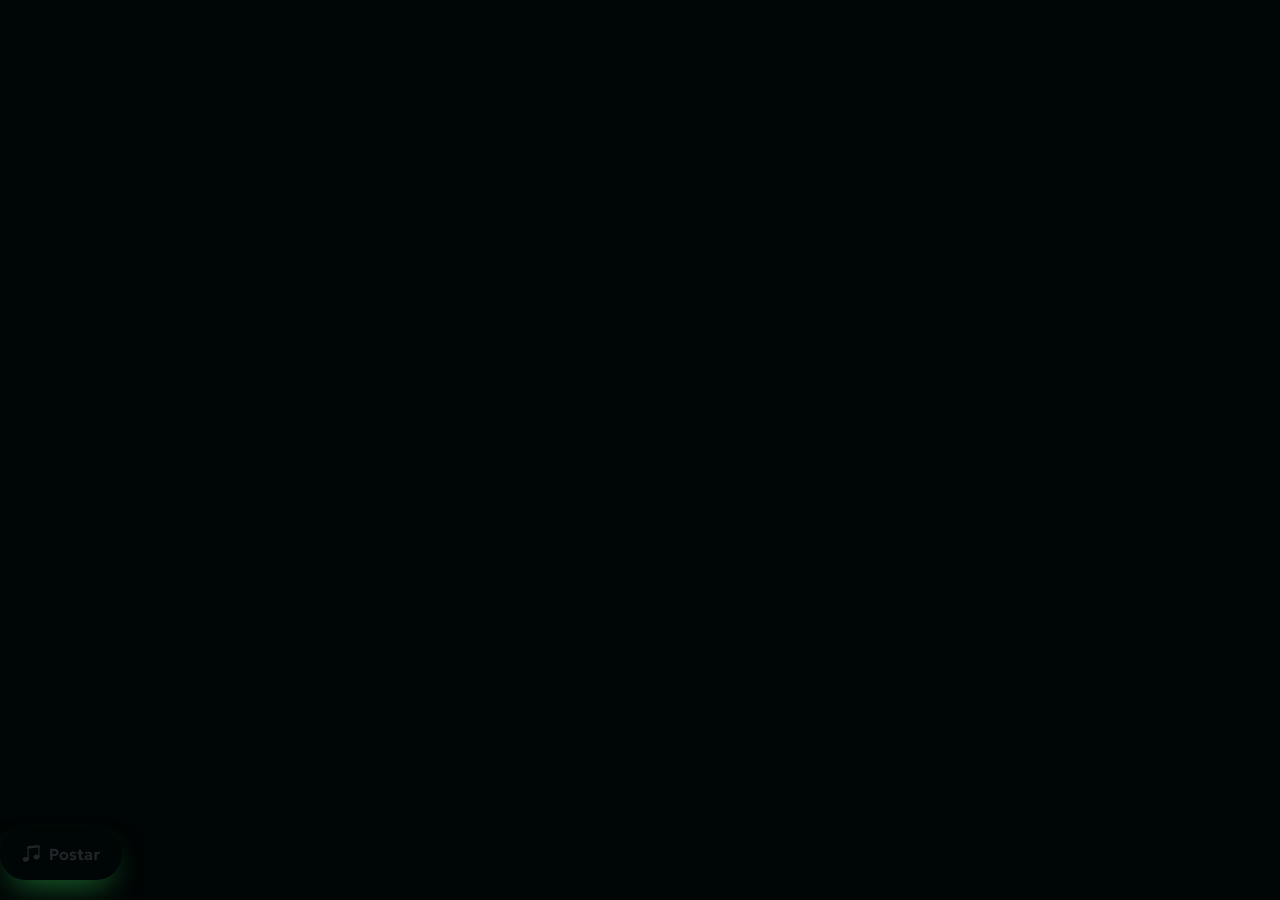
Test: CreatePost › abre o diálogo "Novo post" com o texto focado e "Publicar" desligado enquanto vazio
Click the button with aria-label "Criar post": [61, 854] box [0, 828, 122, 880]
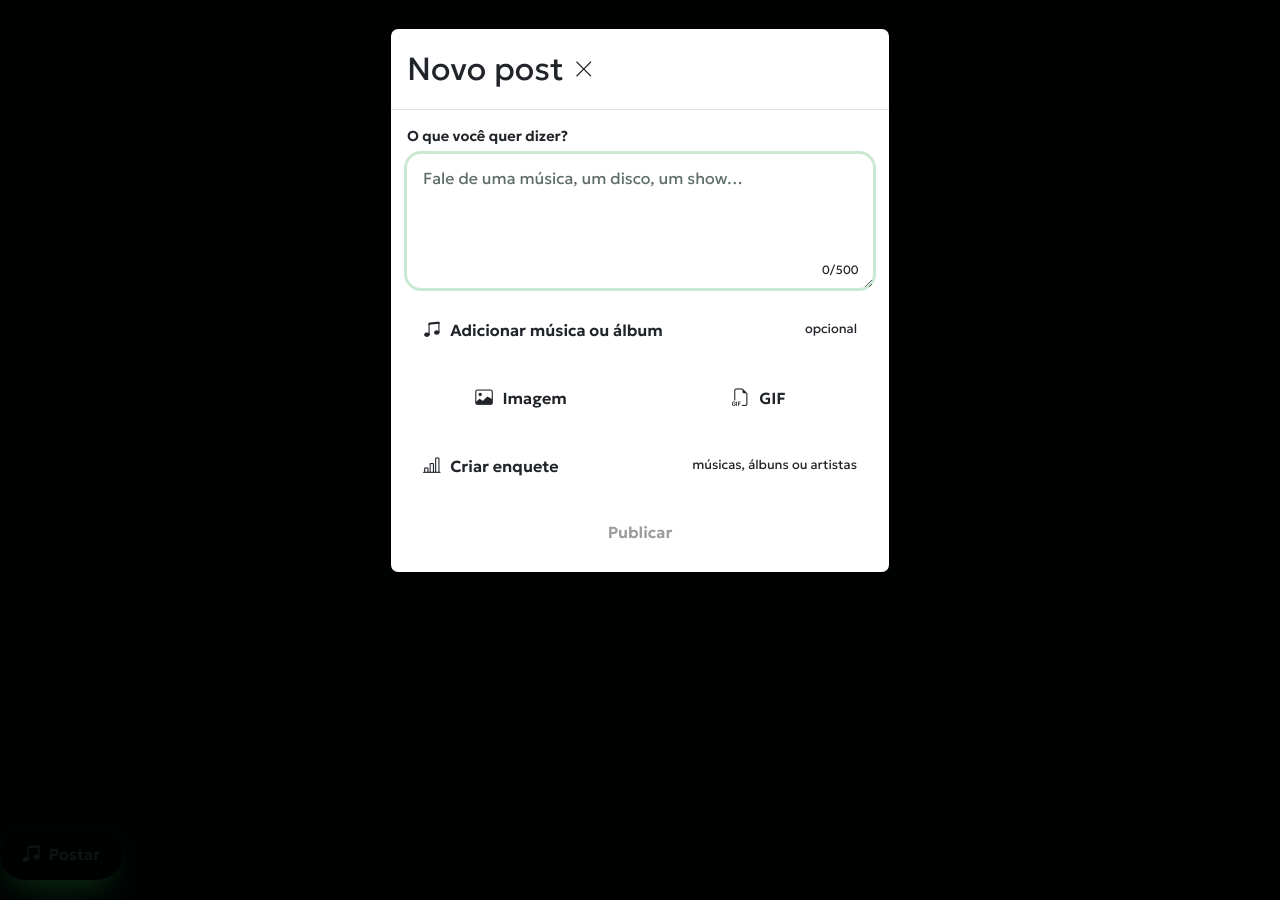
Expected: the dialog "Novo post" is shown, [390, 28, 890, 573]
Expected: the button "Publicar" is disabled, [407, 508, 873, 556]
